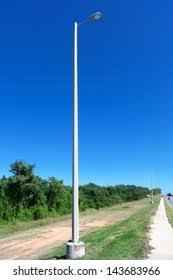light_pole: (66, 16, 86, 261)
